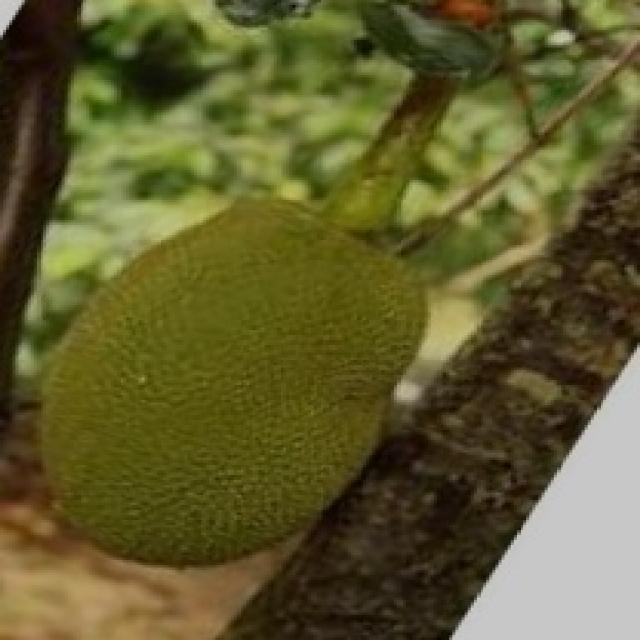Fruit: (0, 165, 452, 595)
